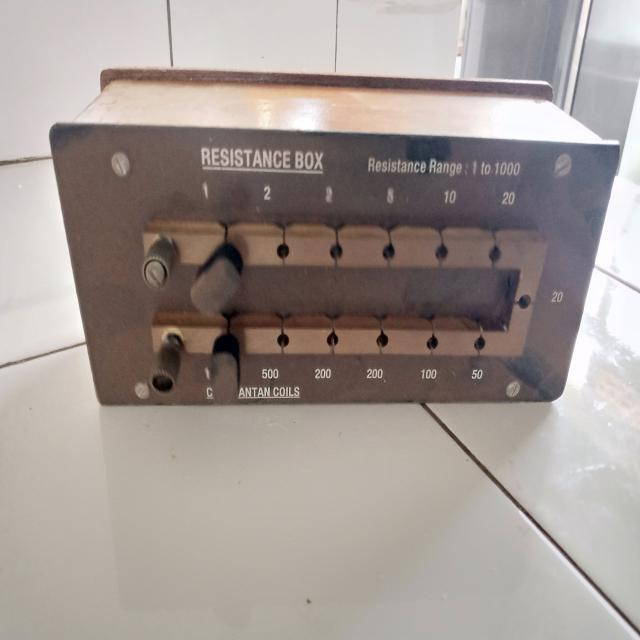Pinned Resistance Box: (39, 40, 622, 424)
